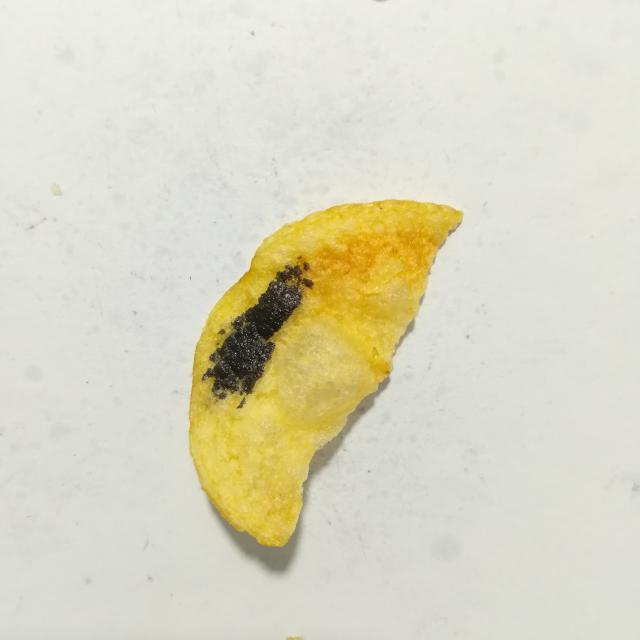chip: (189, 200, 462, 546)
damaged: (203, 263, 313, 399), (236, 397, 246, 409), (218, 329, 226, 334), (297, 255, 302, 260)
